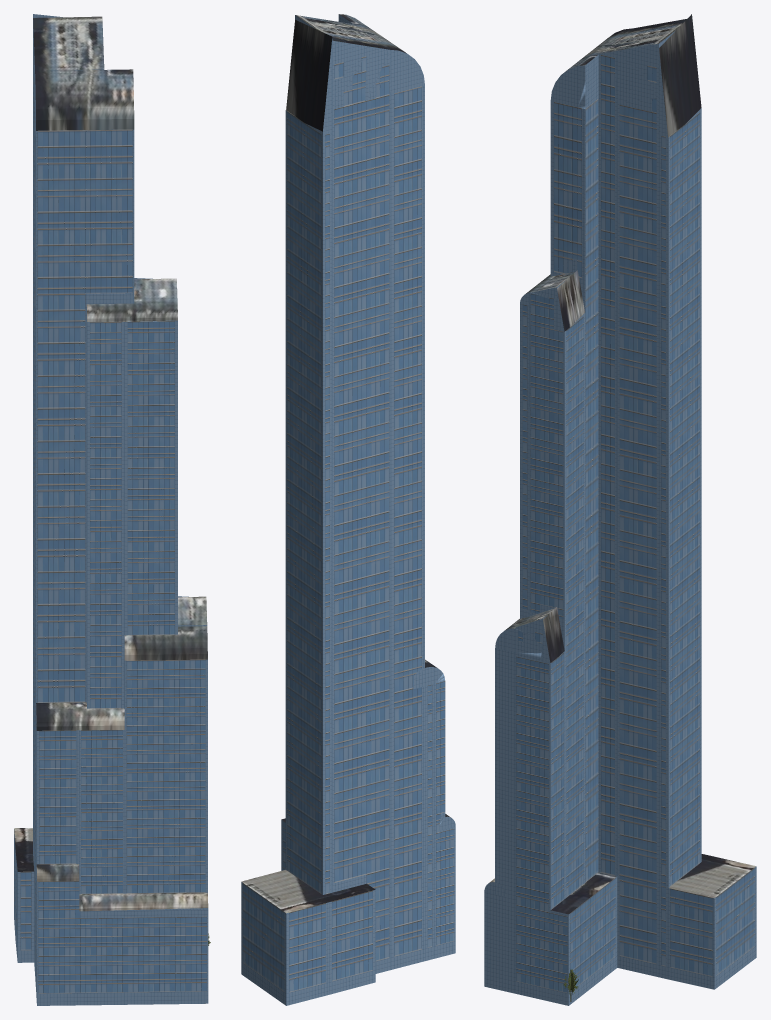
Rendered from building43.fbx.
The picture shows the model from 3 angles, left to right: view 1: azimuth 30°, elevation 25°; view 2: azimuth 150°, elevation 25°; view 3: azimuth 270°, elevation 25°; orthographic projection.
Parts seen in each view (by area): view 1: Object.1736, geometryt040100010000000110110100110010010000110st29_One57, geometryt040100010000000110110100110010010000110st28_One57; view 2: Object.1736, geometryt040100010000000110110100110010010000110st28_One57, geometryt040100010000000110110100110010010000110st29_One57; view 3: Object.1736, geometryt040100010000000110110100110010010000110st28_One57, geometryt040100010000000110110100110010010000110st29_One57.
Boxes of the visible parts, x1,y1,x2,y2 form: Object.1736: (14, 43, 206, 993); geometryt040100010000000110110100110010010000110st29_One57: (14, 16, 208, 1004); geometryt040100010000000110110100110010010000110st28_One57: (14, 14, 208, 1005); Object.1736: (243, 56, 454, 992); geometryt040100010000000110110100110010010000110st28_One57: (241, 14, 455, 1005); geometryt040100010000000110110100110010010000110st29_One57: (241, 14, 450, 913); Object.1736: (516, 55, 754, 992); geometryt040100010000000110110100110010010000110st28_One57: (484, 30, 756, 1005); geometryt040100010000000110110100110010010000110st29_One57: (489, 14, 755, 914).
Size of the model in its own units: 6058 by 30723 by 8082.
Materials: 4 (4 with a texture image).
